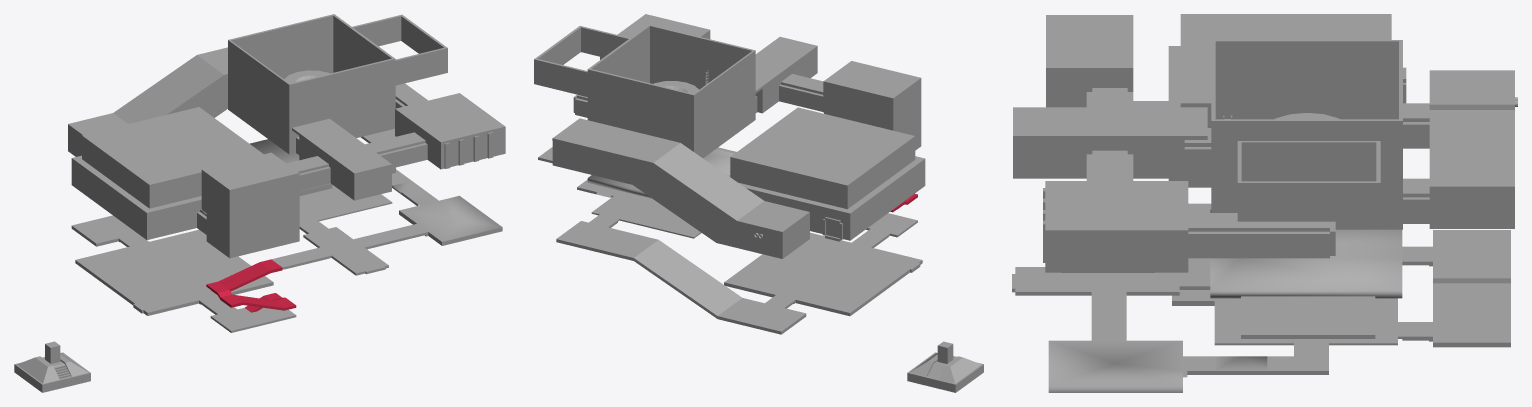
Rendered from TexturedWhitebox.fbx.
The picture shows the model from 3 angles, left to right: view 1: azimuth 30°, elevation 25°; view 2: azimuth 150°, elevation 25°; view 3: azimuth 270°, elevation 25°; orthographic projection. The views are drawn at different scales.
Visible parts, largest first — view 1: Floor, Generator_Top_Room, Shrine_Roof_02, Stair_Room, Generator_Room, Ramp_Roof, Starter_Room, Shrine_Room, Stairs_Roof2, Altar_room_roof, Pass4_Box_04, Shrine (+9 smaller); view 2: Floor, Generator_Top_Room, Shrine_Roof_02, Ramp_Roof, Ramp_Room, Generator_Room, Stair_Room, Starter_Room, Shrine_Room, Shrine, Stairs_Roof, Shrine_Roof_01 (+7 smaller); view 3: Floor, Generator_Top_Room, Starter_Room, Ramp_Roof, Stairs_Roof2, Shrine_Roof_02, Generator_Room, Altar_room_roof, Pass4_Box_04, Altar_Room, Stairs_Roof, Ramp_Room (+14 smaller).
Part boxes in pixels (bbox=[...]): Floor: bbox=[71, 129, 502, 332]; Generator_Top_Room: bbox=[228, 14, 395, 119]; Shrine_Roof_02: bbox=[82, 107, 263, 197]; Stair_Room: bbox=[201, 172, 299, 258]; Generator_Room: bbox=[228, 50, 395, 154]; Ramp_Roof: bbox=[68, 47, 227, 136]; Starter_Room: bbox=[352, 14, 447, 85]; Shrine_Room: bbox=[71, 161, 201, 239]; Stairs_Roof2: bbox=[395, 93, 505, 144]; Altar_room_roof: bbox=[292, 118, 391, 175]; Pass4_Box_04: bbox=[395, 111, 505, 169]; Shrine: bbox=[14, 341, 90, 392]; Floor: bbox=[538, 147, 922, 334]; Generator_Top_Room: bbox=[587, 24, 755, 129]; Shrine_Roof_02: bbox=[730, 107, 915, 198]; Ramp_Roof: bbox=[552, 118, 809, 234]; Ramp_Room: bbox=[552, 141, 809, 258]; Generator_Room: bbox=[587, 61, 755, 157]; Stair_Room: bbox=[823, 80, 921, 150]; Starter_Room: bbox=[534, 26, 629, 96]; Shrine_Room: bbox=[752, 161, 925, 240]; Shrine: bbox=[907, 341, 983, 392]; Stairs_Roof: bbox=[823, 61, 921, 100]; Shrine_Roof_01: bbox=[730, 149, 915, 209]; Floor: bbox=[1012, 203, 1510, 392]; Generator_Top_Room: bbox=[1211, 40, 1402, 175]; Starter_Room: bbox=[1237, 141, 1380, 221]; Ramp_Roof: bbox=[1429, 70, 1514, 190]; Stairs_Roof2: bbox=[1045, 181, 1188, 234]; Shrine_Roof_02: bbox=[1180, 14, 1391, 123]; Generator_Room: bbox=[1211, 95, 1402, 229]; Altar_room_roof: bbox=[1013, 107, 1207, 139]; Pass4_Box_04: bbox=[1043, 188, 1188, 272]; Altar_Room: bbox=[1013, 140, 1184, 178]; Stairs_Roof: bbox=[1046, 15, 1133, 71]; Ramp_Room: bbox=[1429, 190, 1514, 228].
Size of the model in its own units: 6844 by 4154 by 4749.
